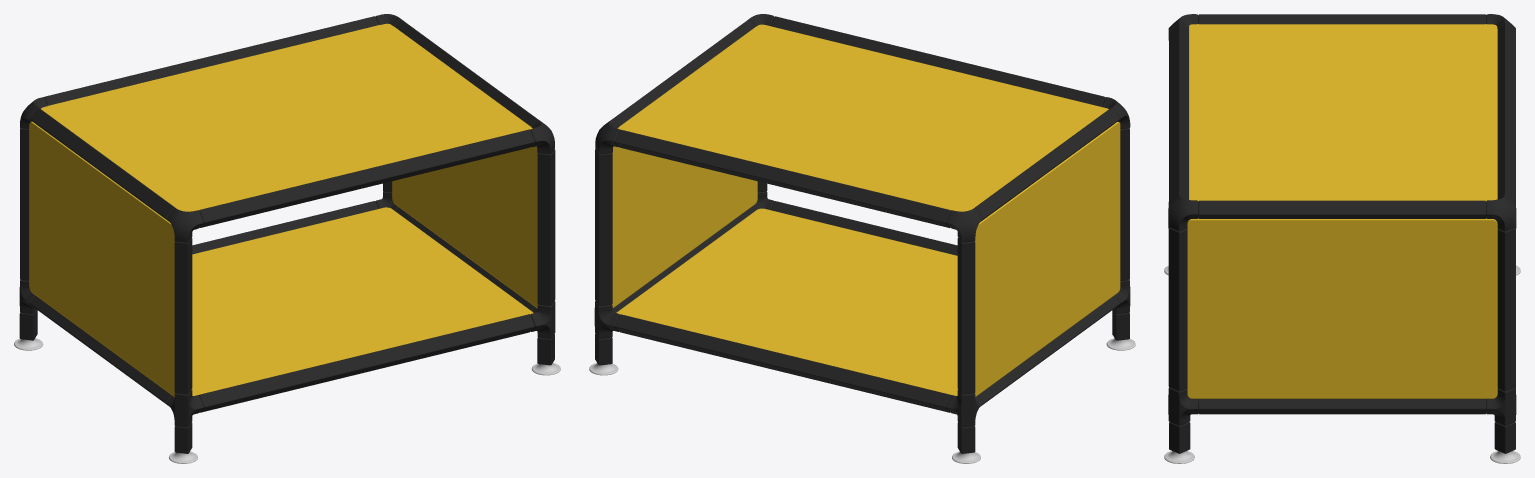
The picture shows the model from 3 angles, left to right: view 1: azimuth 30°, elevation 25°; view 2: azimuth 150°, elevation 25°; view 3: azimuth 270°, elevation 25°; orthographic projection. The views are drawn at different scales.
Visible parts, largest first — view 1: 523x374x229; view 2: 523x374x229; view 3: 523x374x229.
Boxes of the visible parts, x1=… form: 523x374x229: x1=14, y1=14, x2=560, y2=463; 523x374x229: x1=589, y1=14, x2=1135, y2=463; 523x374x229: x1=1164, y1=14, x2=1520, y2=463.
Size of the model in its own units: 0.6129 by 0.3684 by 0.4632.
